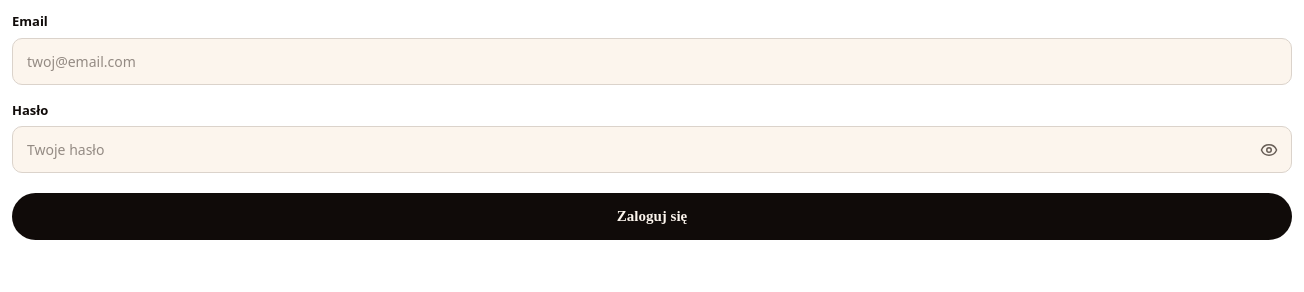
it: LoginForm — dostarczanie odmowy serwera › ZASTĘPUJE słownik biblioteki przy błędnych poświadczeniach
In the field labelled "Email": (652, 61) [12, 38, 1292, 84], type "ktos@example.com"
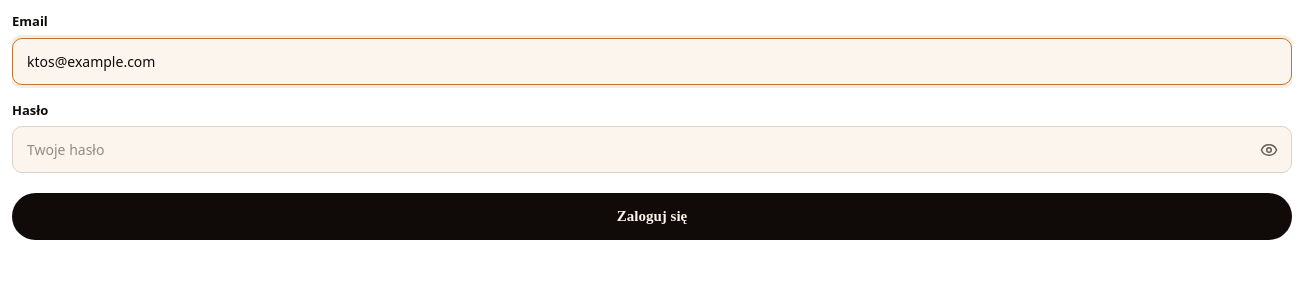
In the password field labelled "Hasło": (652, 150) [12, 126, 1292, 173], type "tajne-haslo-123"
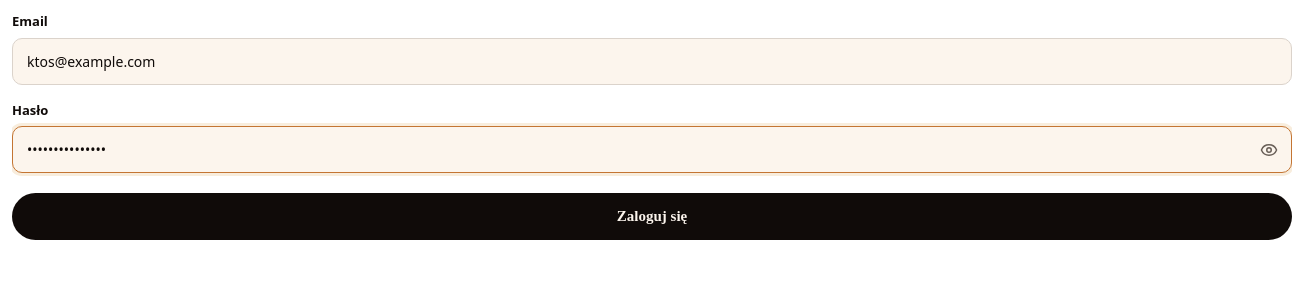
Click the button "Zaloguj się": (652, 216) [12, 193, 1292, 240]
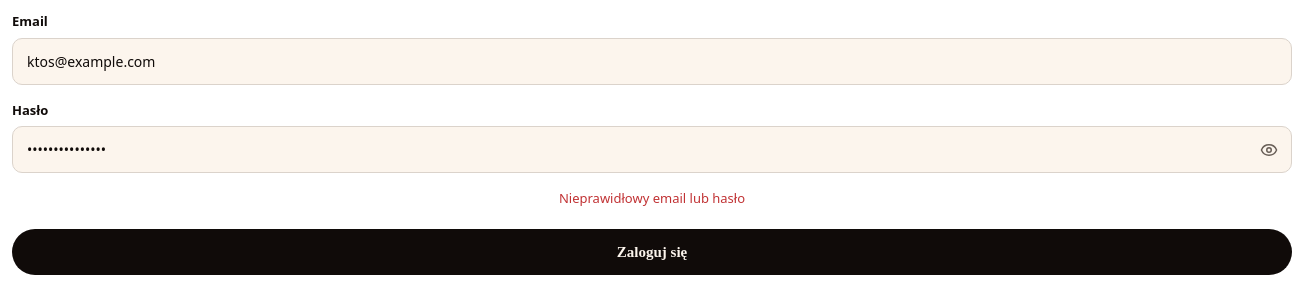
Expected: the text "Nieprawidłowy email lub hasło" is shown, [559, 189, 745, 207]
